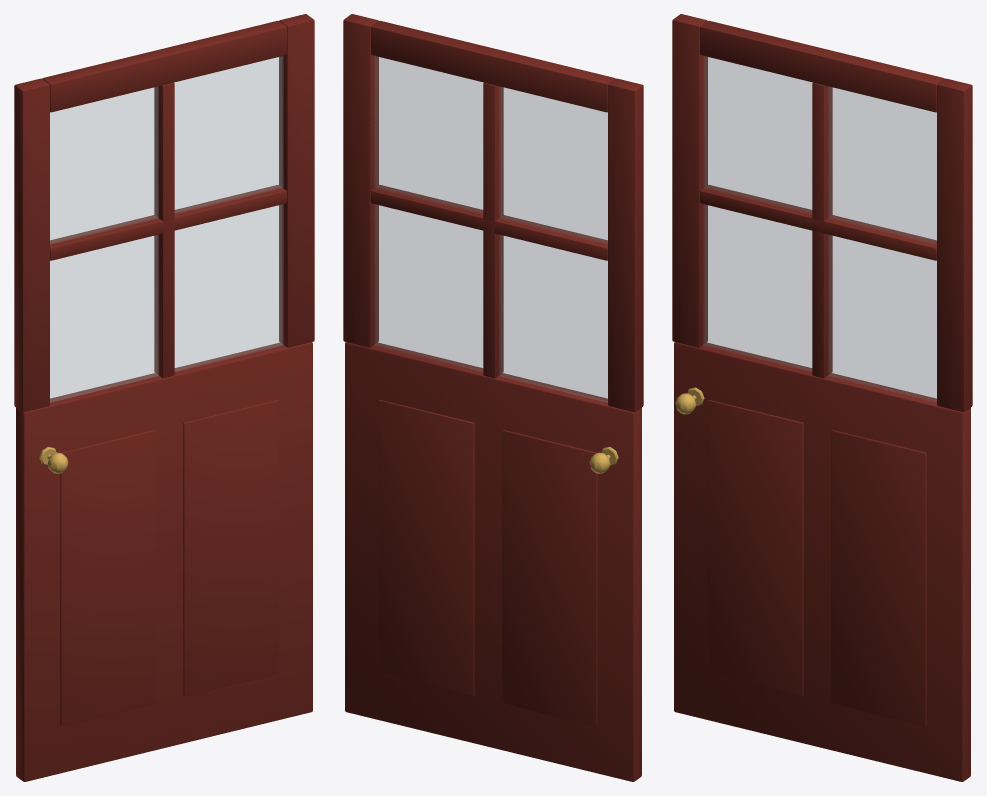
The model's file is mae_back_door.glb.
The picture shows the model from 3 angles, left to right: view 1: azimuth 30°, elevation 25°; view 2: azimuth 150°, elevation 25°; view 3: azimuth 330°, elevation 25°; orthographic projection.
Parts seen in each view (by area): view 1: mae_back_door; view 2: mae_back_door; view 3: mae_back_door.
Boxes of the visible parts, x1,y1,x2,y2 form: mae_back_door: (14, 14, 314, 781); mae_back_door: (343, 14, 643, 781); mae_back_door: (672, 14, 972, 781).
Bounding box in the file's own units: 0.95 × 2.15 × 0.23.
